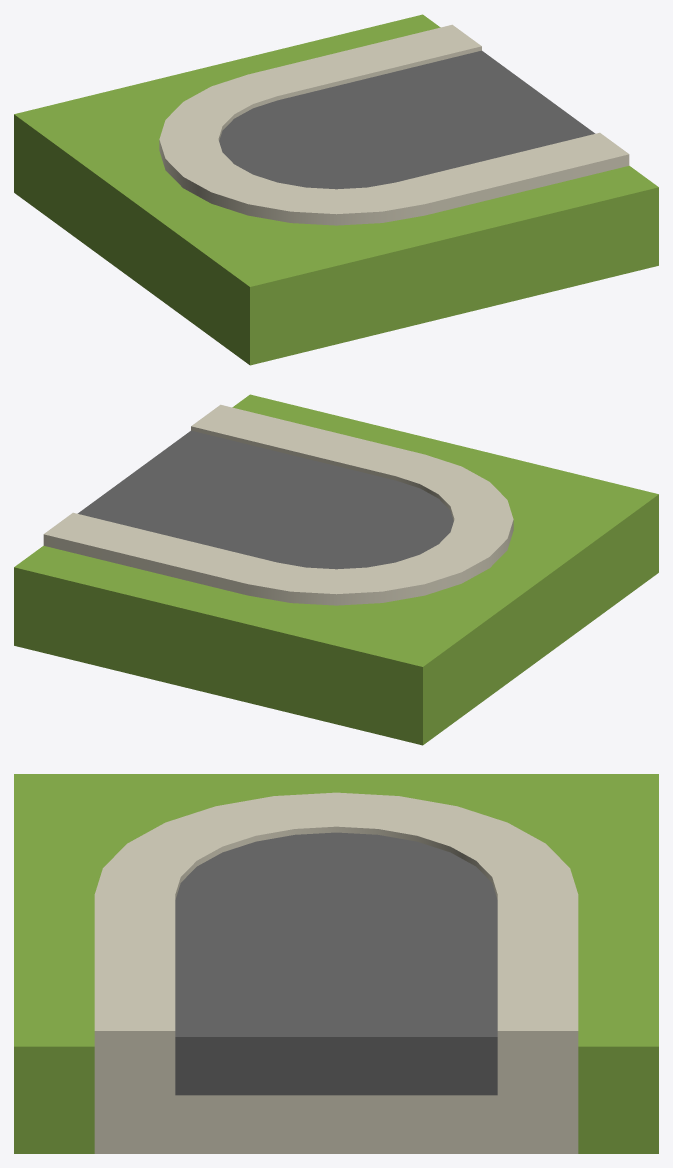
Rendered from road-grass-deadend.obj.
3 views of the same model, one above another, from view 1: azimuth 30°, elevation 25°; view 2: azimuth 150°, elevation 25°; view 3: azimuth 270°, elevation 25° (orthographic). The views are drawn at different scales.
Parts seen in each view (by area): view 1: Mesh1_Group1_Model.025; view 2: Mesh1_Group1_Model.025; view 3: Mesh1_Group1_Model.025.
Boxes of the visible parts, x1,y1,x2,y2 form: Mesh1_Group1_Model.025: (14,14,658,365); Mesh1_Group1_Model.025: (14,394,658,745); Mesh1_Group1_Model.025: (14,774,658,1153).
Size of the model in its own units: 3 by 0.63 by 3.
